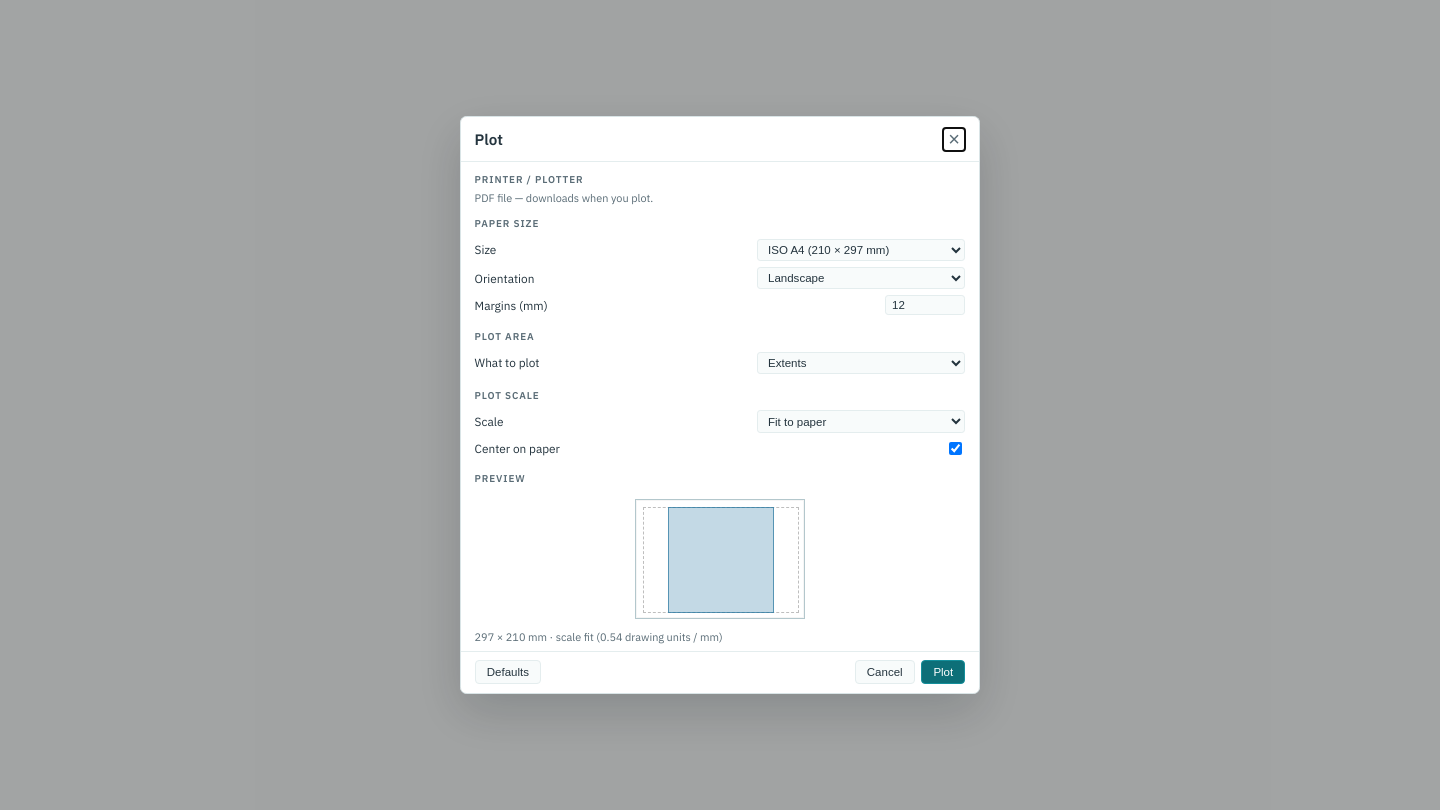
the Plot dialog › switches the plot area to a window and asks for the corners
Select "Window" in the dropdown labelled "What to plot": (861, 363) [757,352,965,374]
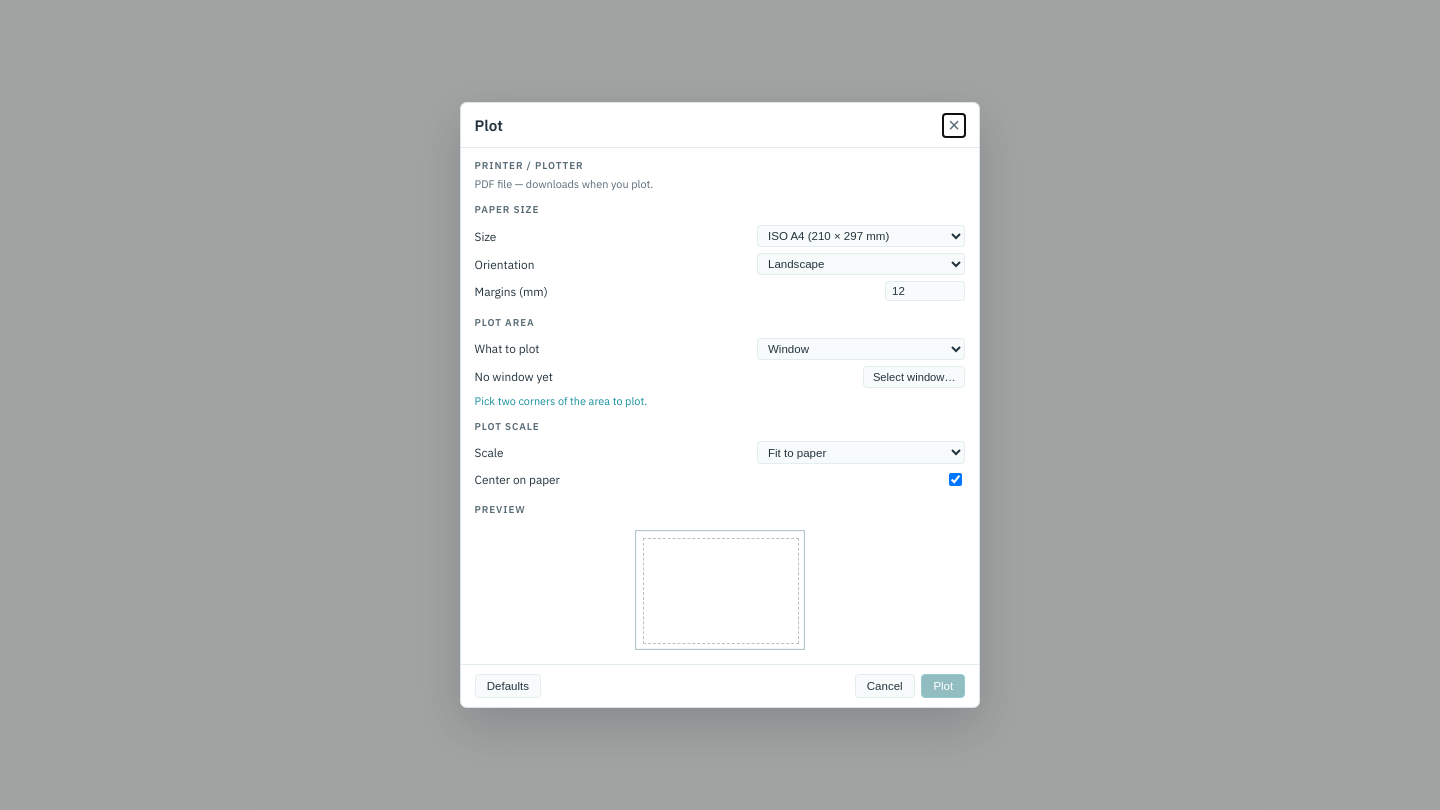
Expected: the button "Select window…" is shown, [863,366,965,388]
Expected: the text "Pick two corners of the area to plot." is shown, [475,394,647,408]
